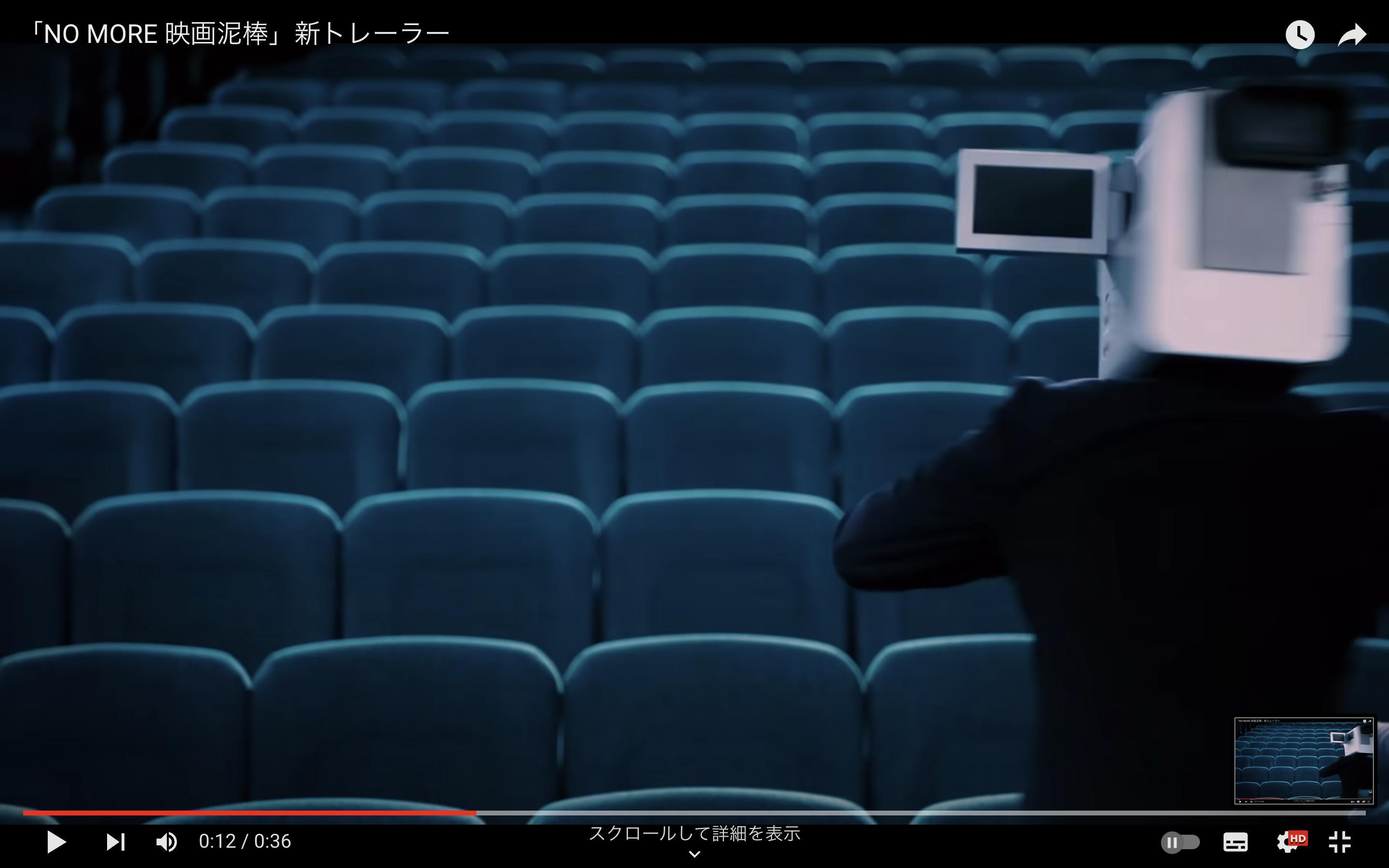no more kid: (932, 68, 1386, 384)
